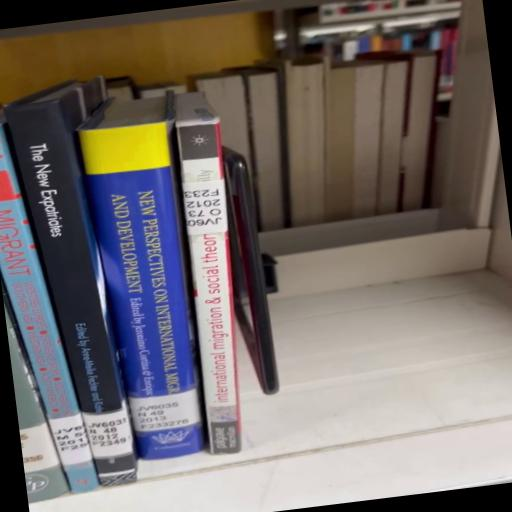reverse: (175, 93, 241, 454)
